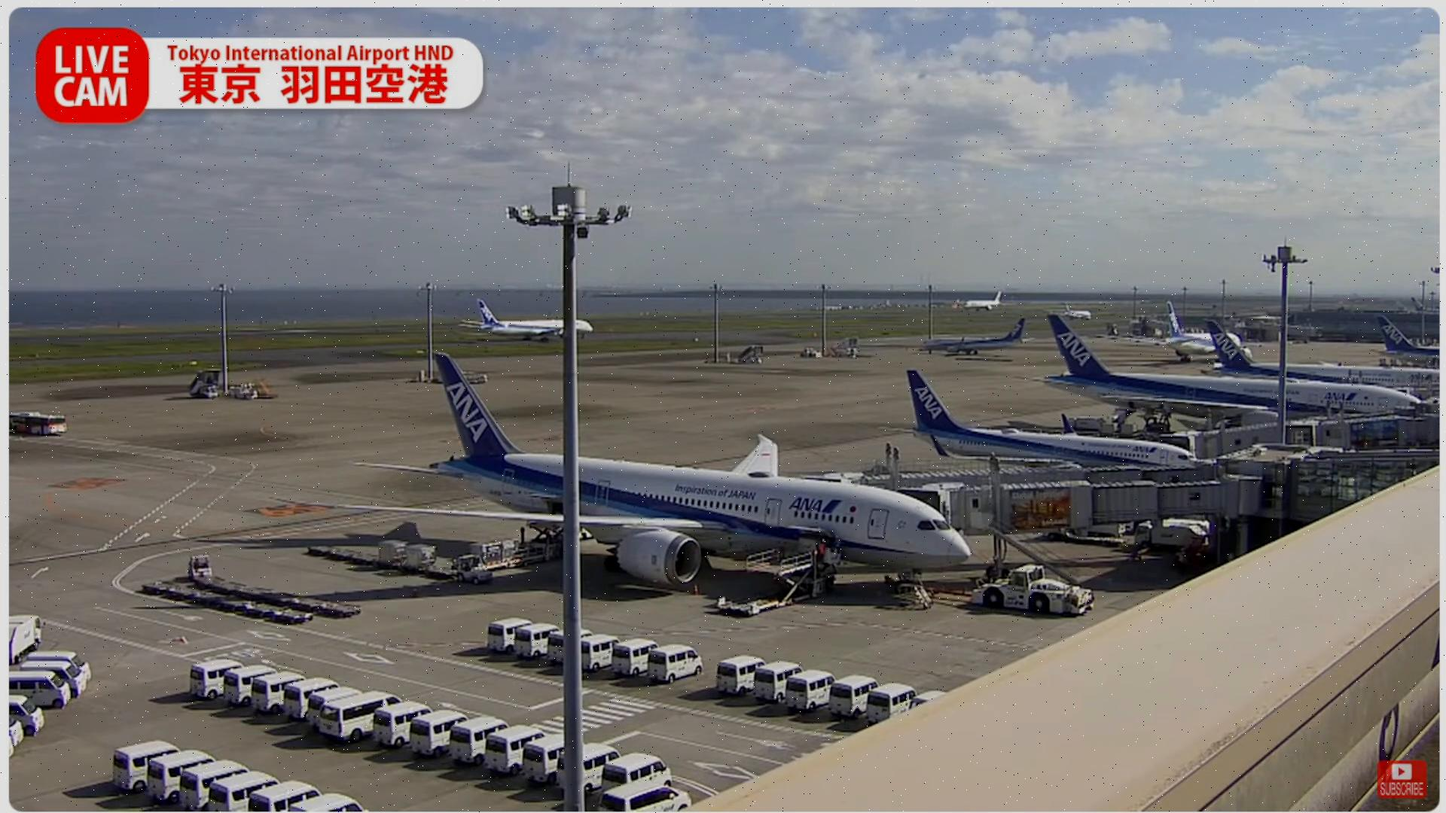APS: (969, 564, 1106, 619)
Aerobridge: (899, 476, 1264, 540), (843, 457, 1217, 496)
Airplane: (330, 354, 973, 599)
Dolly: (137, 576, 315, 628), (196, 573, 362, 620), (308, 539, 456, 583)
JCPL: (716, 556, 842, 620), (450, 522, 565, 575)
Tractor: (454, 553, 493, 585), (183, 551, 215, 580)
Window: (1290, 456, 1440, 523)
